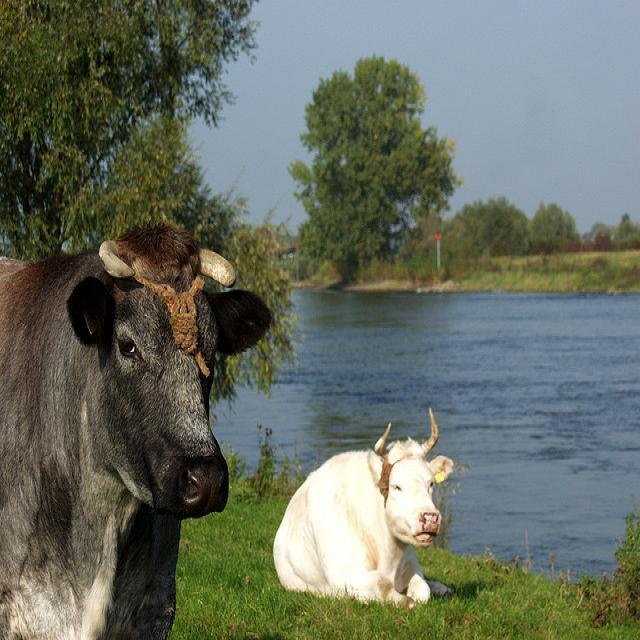cow: (0, 219, 274, 631), (271, 405, 452, 604)
